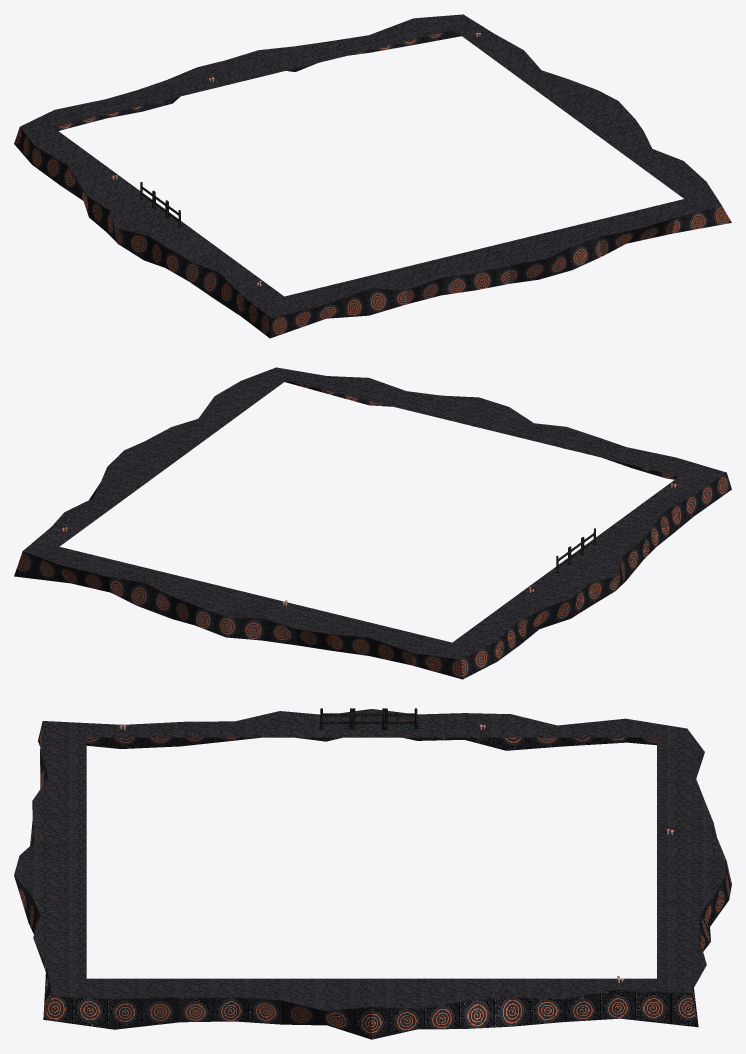
File: entorno_16.glb
3 views of the same model, one above another, from view 1: azimuth 30°, elevation 25°; view 2: azimuth 150°, elevation 25°; view 3: azimuth 270°, elevation 25° (orthographic). The views are drawn at different scales.
Parts seen in each view (by area): view 1: vulcao_entorno_16; view 2: vulcao_entorno_16; view 3: vulcao_entorno_16.
Boxes of the visible parts, x1,y1,x2,y2 form: vulcao_entorno_16: (14,14,731,338); vulcao_entorno_16: (14,367,731,679); vulcao_entorno_16: (14,708,731,1039).
Bounding box in the file's own units: 20.59 × 1.7 × 20.39.
7 materials, 5 textured.
